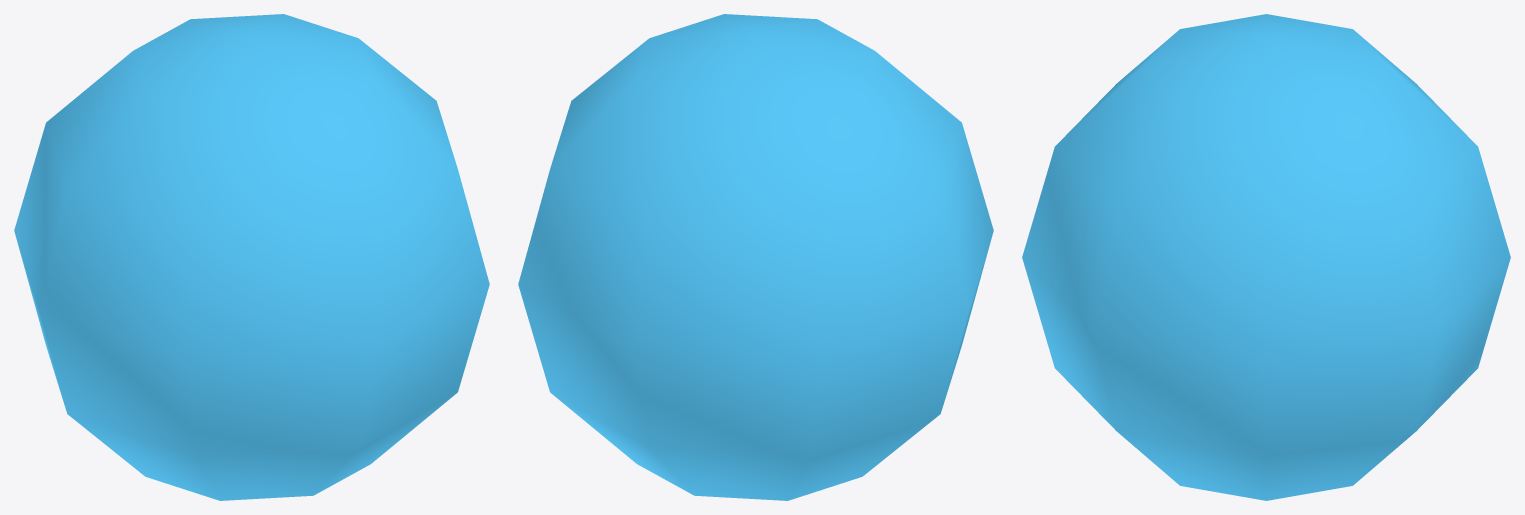
Rendered from water.glb.
The picture shows the model from 3 angles, left to right: view 1: azimuth 30°, elevation 25°; view 2: azimuth 150°, elevation 25°; view 3: azimuth 270°, elevation 25°; orthographic projection.
Parts seen in each view (by area): view 1: water; view 2: water; view 3: water.
Boxes of the visible parts, x1,y1,x2,y2 form: water: (14,14,489,500); water: (518,14,993,500); water: (1022,14,1510,500).
Bounding box in the file's own units: 0.18 × 0.18 × 0.18.
